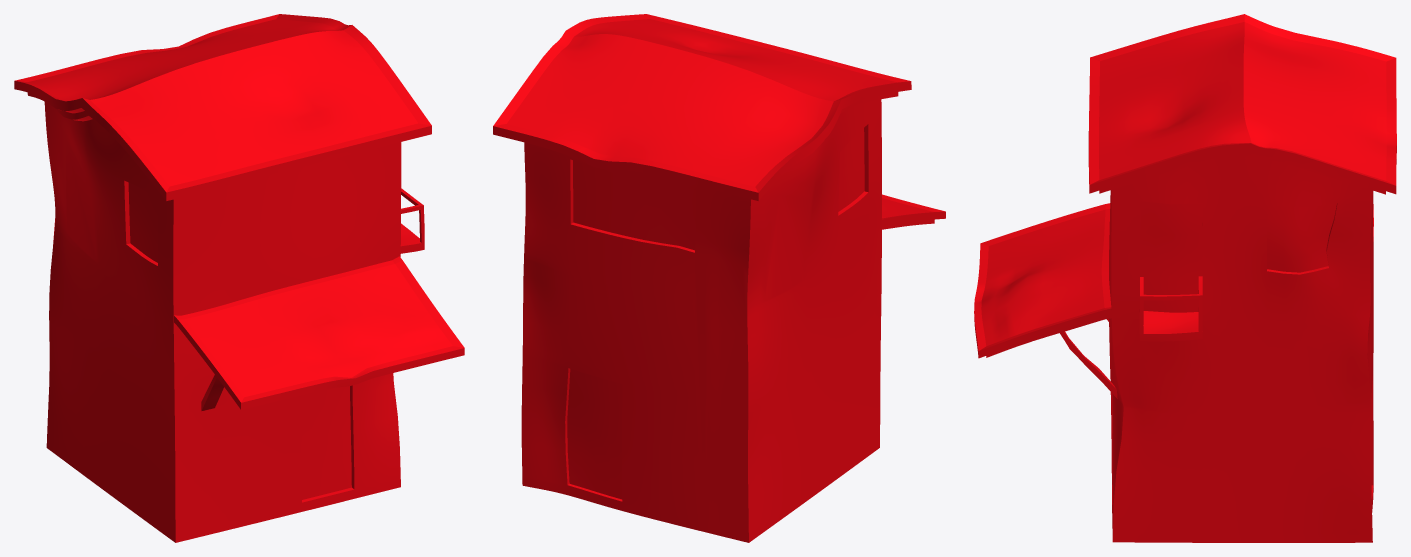
Rendered from broken_house_3.fbx.
3 renders of one model, left to right at view 1: azimuth 30°, elevation 25°; view 2: azimuth 150°, elevation 25°; view 3: azimuth 270°, elevation 25°, orthographic.
Parts seen in each view (by area): view 1: medium_house; view 2: medium_house; view 3: medium_house.
Part boxes in pixels (x1,y1,x2,y2): medium_house: [14, 14, 464, 542]; medium_house: [493, 14, 945, 542]; medium_house: [974, 14, 1396, 542].
Bounding box in the file's own units: 1425 × 1919 × 1769.
